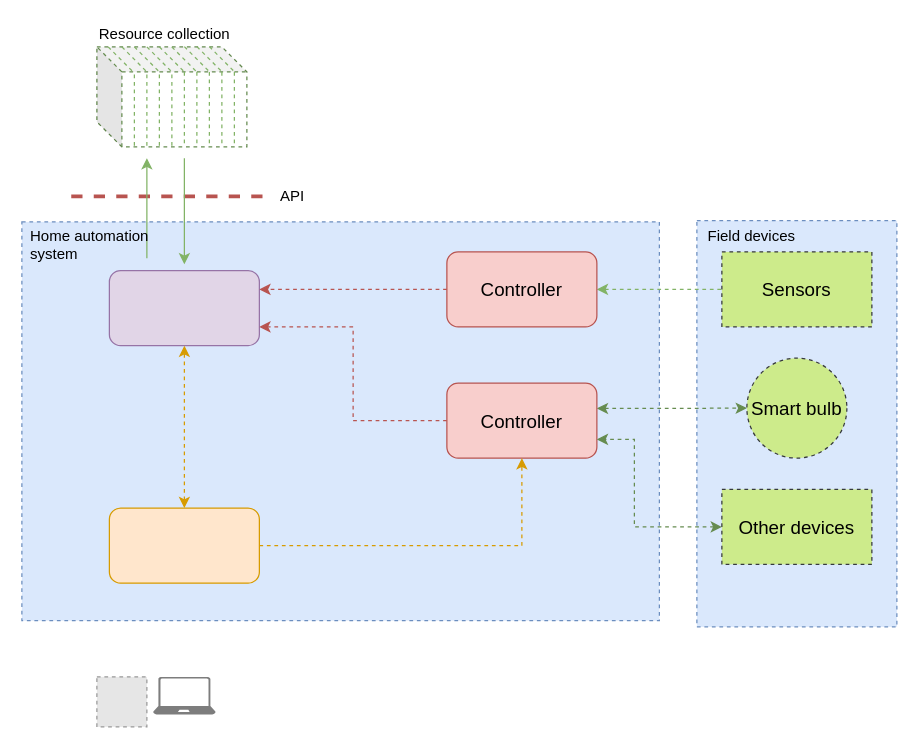
Some shapes in this 919 by 749 pixel diagram are drawn without their labels. Grey dashed boxes stand in for pictures. The shapes that lost their labels are listed below. From the top down, each one's box as (x1, y1, x2, y2) in pixels, then its label:
(108, 269, 259, 346): Device Registry
(108, 507, 259, 583): Web interface
